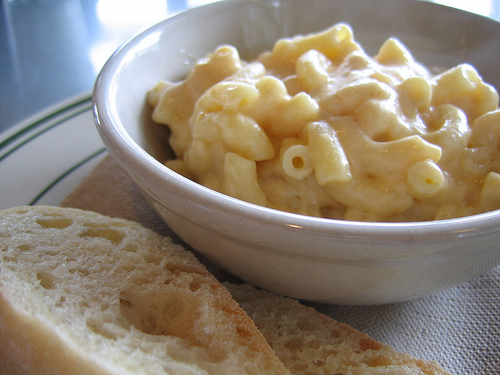macncheese: (139, 27, 500, 222)
